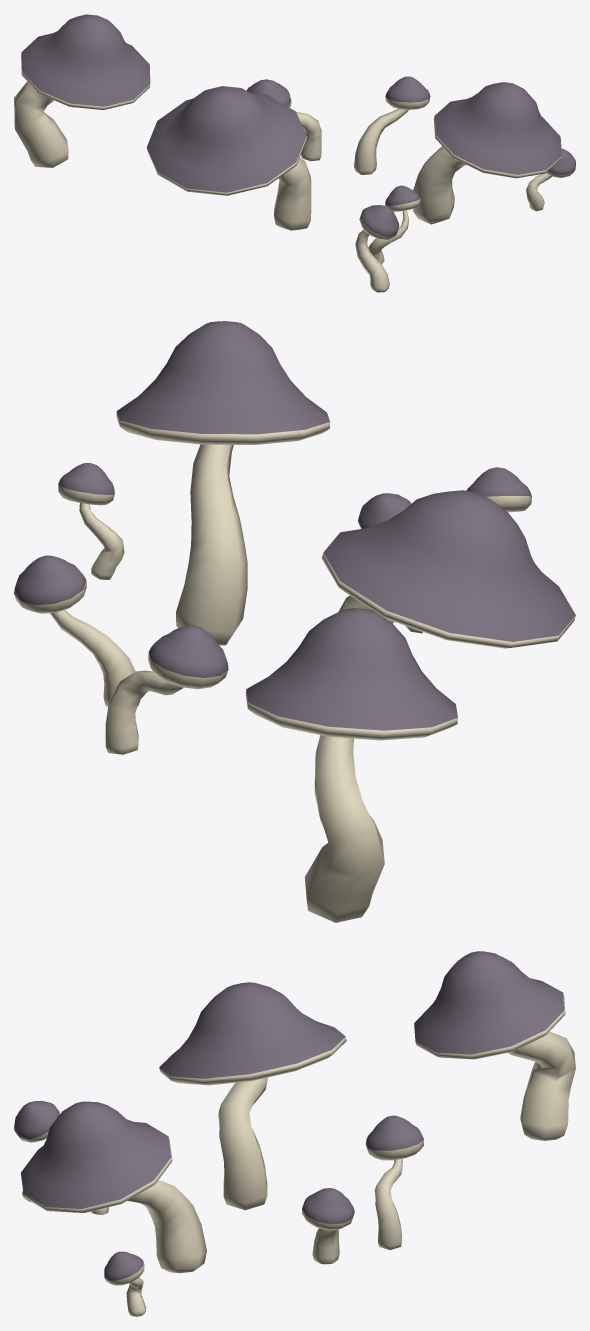
File: P_mushroom_04_LD.fbx
3 renders of one model, top to bottom at view 1: azimuth 30°, elevation 25°; view 2: azimuth 150°, elevation 25°; view 3: azimuth 270°, elevation 25°, orthographic. The views are drawn at different scales.
Parts seen in each view (by area): view 1: P_mushroom_04; view 2: P_mushroom_04; view 3: P_mushroom_04.
Boxes of the visible parts, x1,y1,x2,y2 form: P_mushroom_04: [14, 14, 575, 292]; P_mushroom_04: [14, 321, 575, 922]; P_mushroom_04: [14, 951, 575, 1316].
Size of the model in its own units: 131 by 52.73 by 139.
1 material, 1 textured.
